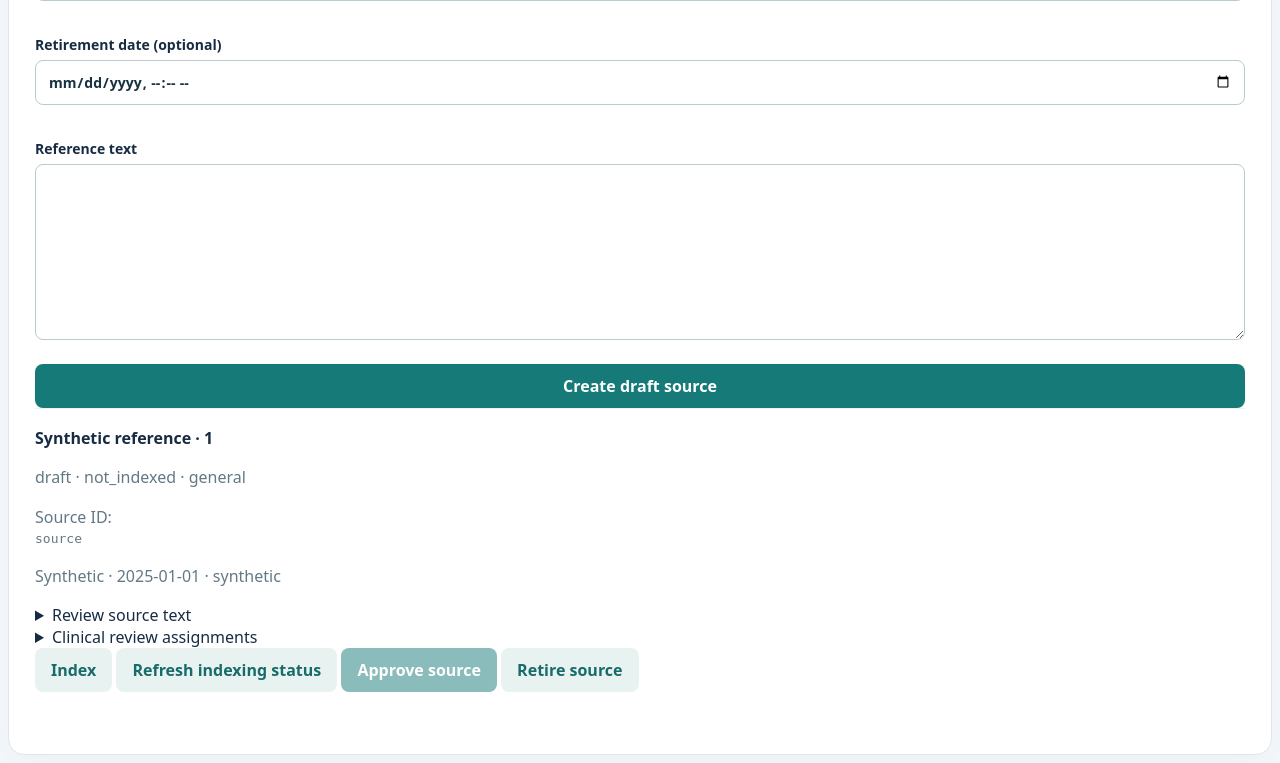
queues indexing and displays the refreshed job state
(page scrolled)
Click the button "Index" at (74, 670), box [35,648,112,692]
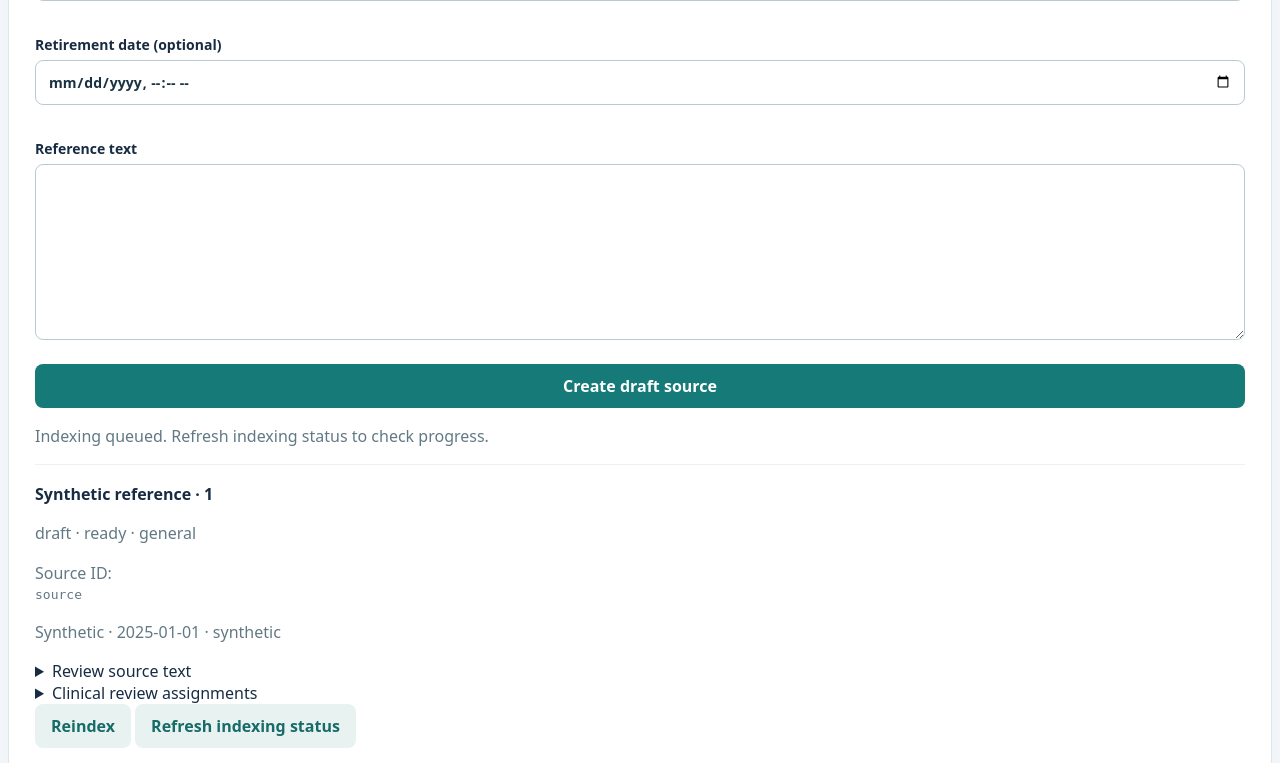
expect the button "Reindex" is shown: met, box [35,704,131,748]
